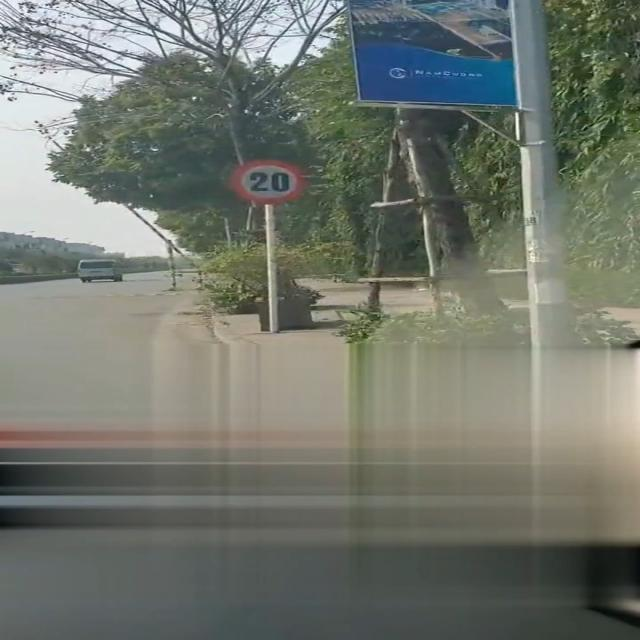127-toc-do-toi-da-20: (232, 159, 304, 203)
